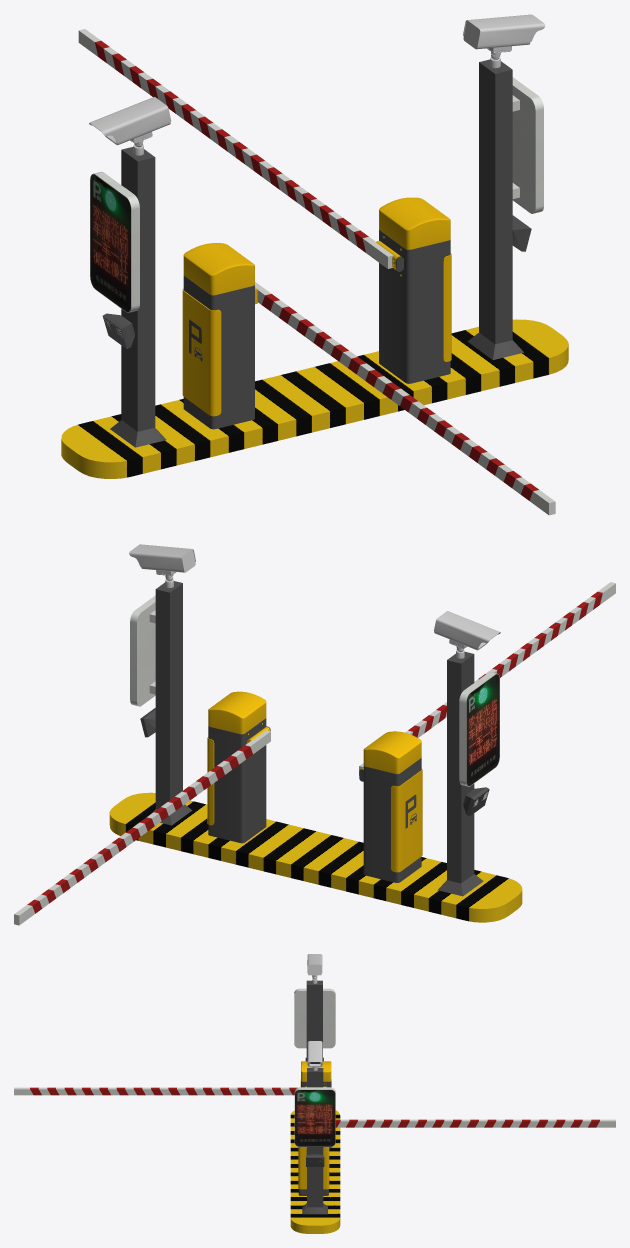
The model's file is UnderGroundParking_GateUp.fbx.
The picture shows the model from 3 angles, top to bottom: view 1: azimuth 30°, elevation 25°; view 2: azimuth 150°, elevation 25°; view 3: azimuth 270°, elevation 25°; orthographic projection. The views are drawn at different scales.
Parts seen in each view (by area): view 1: UnderGroundParking_GateUp; view 2: UnderGroundParking_GateUp; view 3: UnderGroundParking_GateUp.
Boxes of the visible parts, bbox=[...] form: UnderGroundParking_GateUp: bbox=[61, 14, 568, 515]; UnderGroundParking_GateUp: bbox=[14, 544, 615, 925]; UnderGroundParking_GateUp: bbox=[14, 954, 615, 1233].
Bounding box in the file's own units: 2.65 × 1.8 × 5.7.
7 materials, 4 textured.
